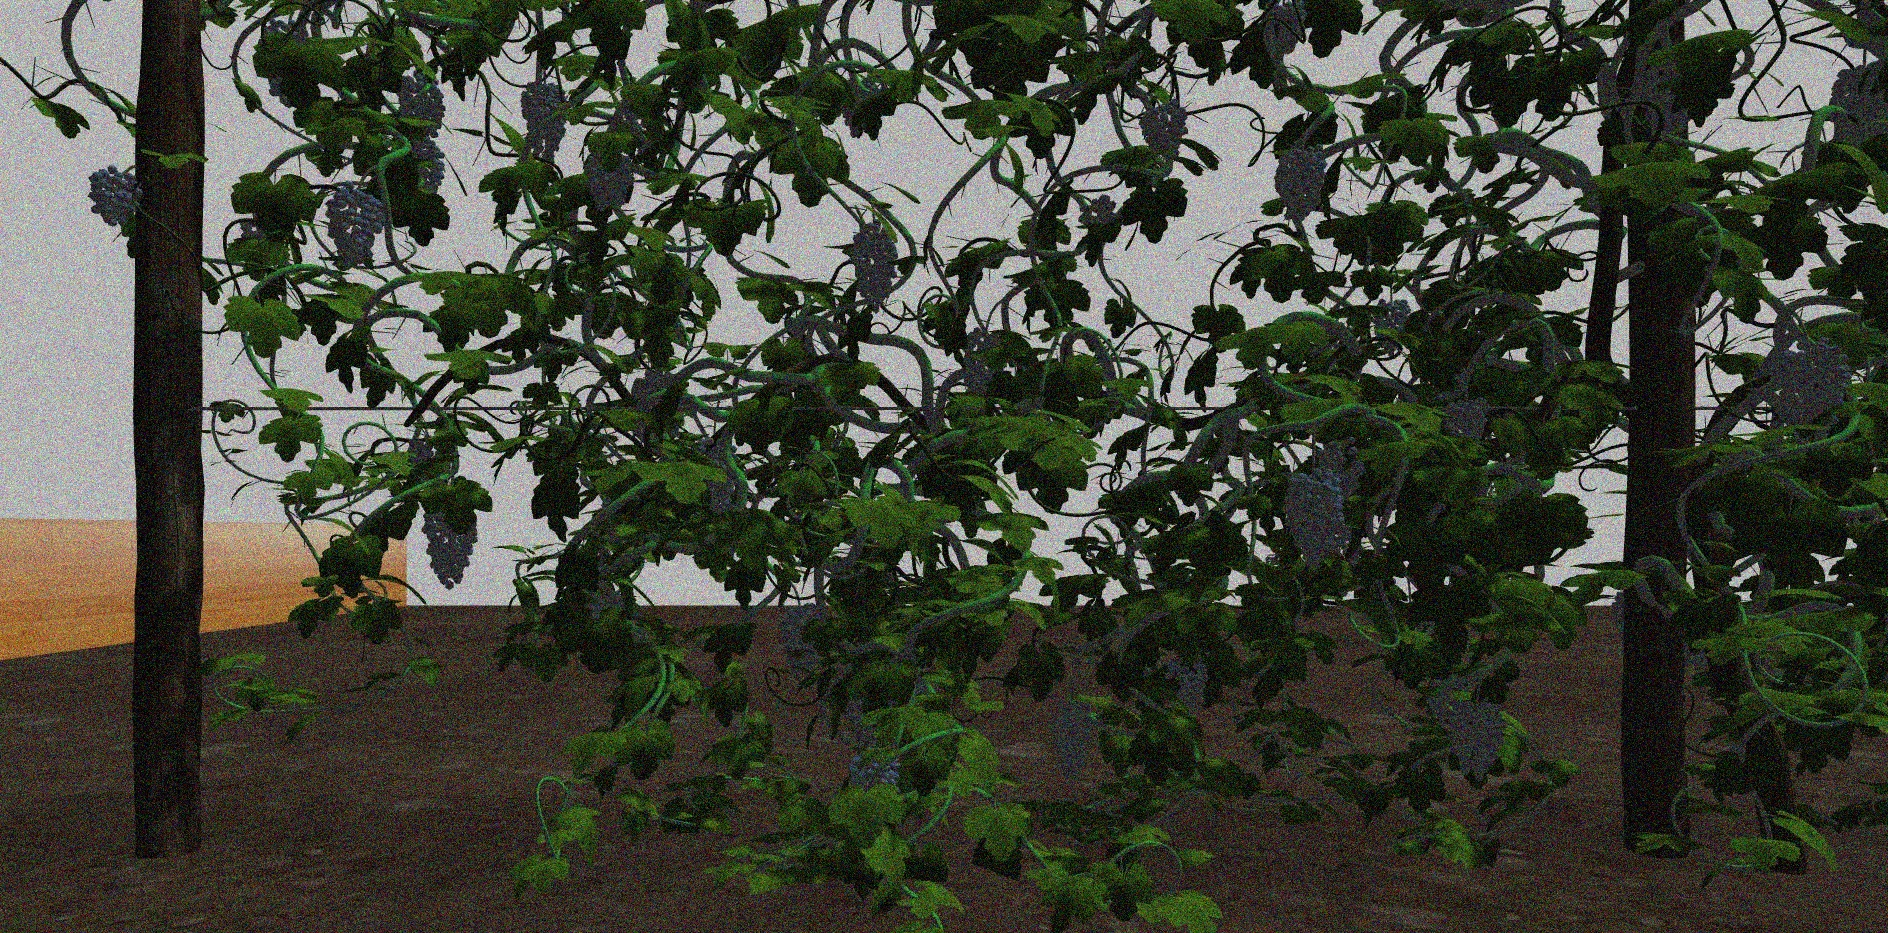grape: (1770, 336, 1854, 423), (1284, 470, 1346, 571), (421, 494, 480, 595), (324, 184, 391, 270), (1449, 701, 1508, 783), (1828, 63, 1884, 147), (851, 223, 899, 313), (1273, 144, 1328, 223), (1050, 696, 1101, 781), (520, 81, 568, 154), (960, 327, 1010, 396), (780, 603, 824, 683), (89, 165, 144, 225), (399, 71, 446, 138), (582, 150, 632, 212), (1139, 102, 1188, 157), (1166, 652, 1209, 714), (1321, 438, 1365, 494), (1265, 1, 1308, 57), (1374, 299, 1414, 355), (846, 752, 901, 789), (1447, 396, 1489, 441)
